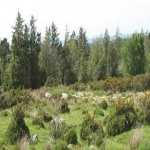Forest: (9, 32, 145, 144)
